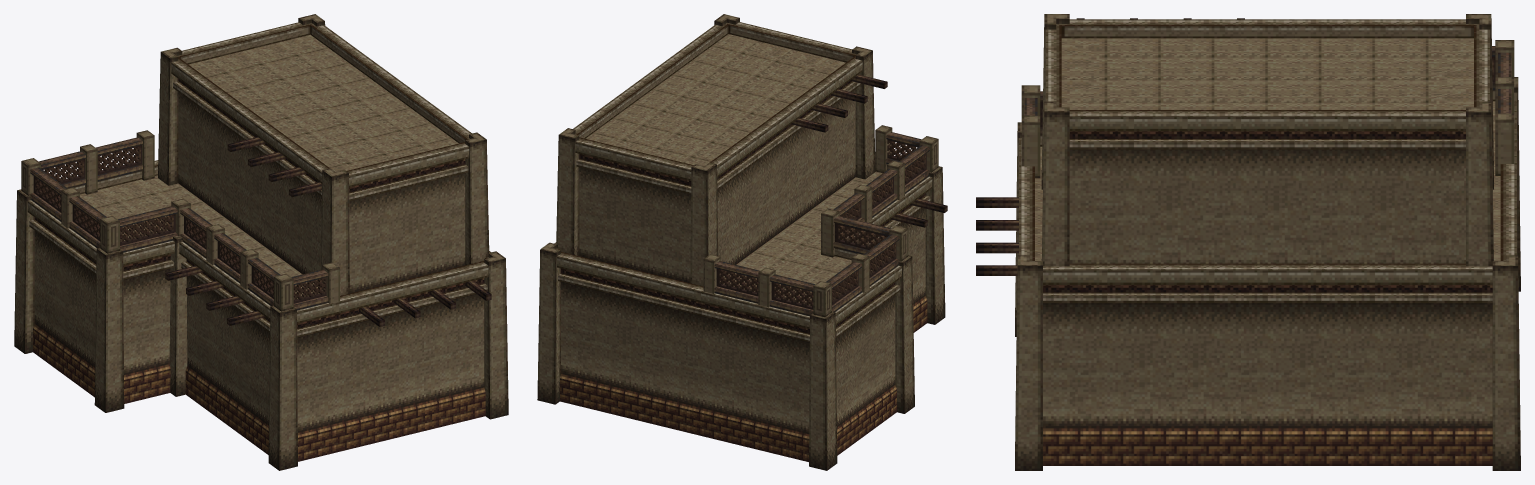
The model's file is EnvBdgMD_Wilderness_C_Outdoor_Inn_A.FBX.
3 renders of one model, left to right at view 1: azimuth 30°, elevation 25°; view 2: azimuth 150°, elevation 25°; view 3: azimuth 270°, elevation 25°, orthographic. The views are drawn at different scales.
Parts seen in each view (by area): view 1: EnvBdgMD_Wilderness_C_Outdoor_Inn_A; view 2: EnvBdgMD_Wilderness_C_Outdoor_Inn_A; view 3: EnvBdgMD_Wilderness_C_Outdoor_Inn_A.
Part boxes in pixels (<box>): EnvBdgMD_Wilderness_C_Outdoor_Inn_A: <box>14,14,508,470</box>; EnvBdgMD_Wilderness_C_Outdoor_Inn_A: <box>537,14,947,470</box>; EnvBdgMD_Wilderness_C_Outdoor_Inn_A: <box>976,14,1520,470</box>.
Bounding box in the file's own units: 845 × 725 × 1018.
Materials: 1 (1 with a texture image).
